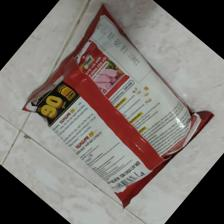Kokomi: (20, 3, 215, 208)
